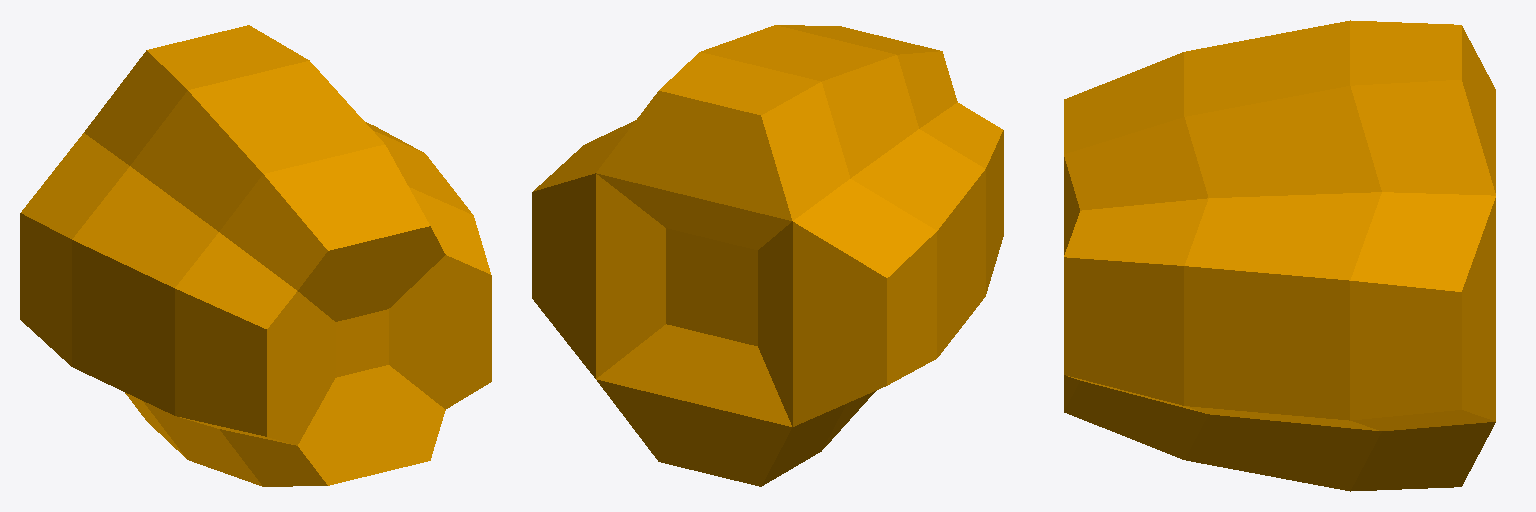
robot.urdf — seededBellPepper:
<?xml version="1.0"?>
<robot name="seededBellPepper">
  <link name="body">
    <inertial>
        <origin rpy="0 0 0" xyz="0 0 0"/>
        <mass value="0.01"/>
        <inertia ixx="4.4e-5" ixy="0" ixz="0" iyy="0" iyz="0" izz="4.4e-5"/>
    </inertial>
    <visual>
      <geometry>
        <mesh filename="pepperBody.obj"/>
      </geometry>
    </visual>
    <collision>
      <geometry>
        <mesh filename="pepperBodyCollider.obj"/>
      </geometry>
      <surface>
           <bounce restitution_coefficient = "0.1"/>
      </surface>
    </collision>
  </link>
</robot>

--- Render facts (derived) ---
The picture shows the robot from 3 angles, left to right: view 1: azimuth 30°, elevation 25°; view 2: azimuth 150°, elevation 25°; view 3: azimuth 270°, elevation 25°; orthographic projection.
Robot: seededBellPepper — 1 links, 0 joints (none); root link body; default pose: every joint at zero.
Visible links, largest first — view 1: body; view 2: body; view 3: body.
Boxes of the visible links, bbox=[...] form: body: bbox=[20, 25, 491, 486]; body: bbox=[532, 25, 1003, 486]; body: bbox=[1064, 20, 1495, 491].
Size in the robot's own frame: 0.1681 by 0.1617 by 0.1681 metres.
Meshes: 1 distinct files referenced, 1 mesh visuals loaded (1 OBJ).
